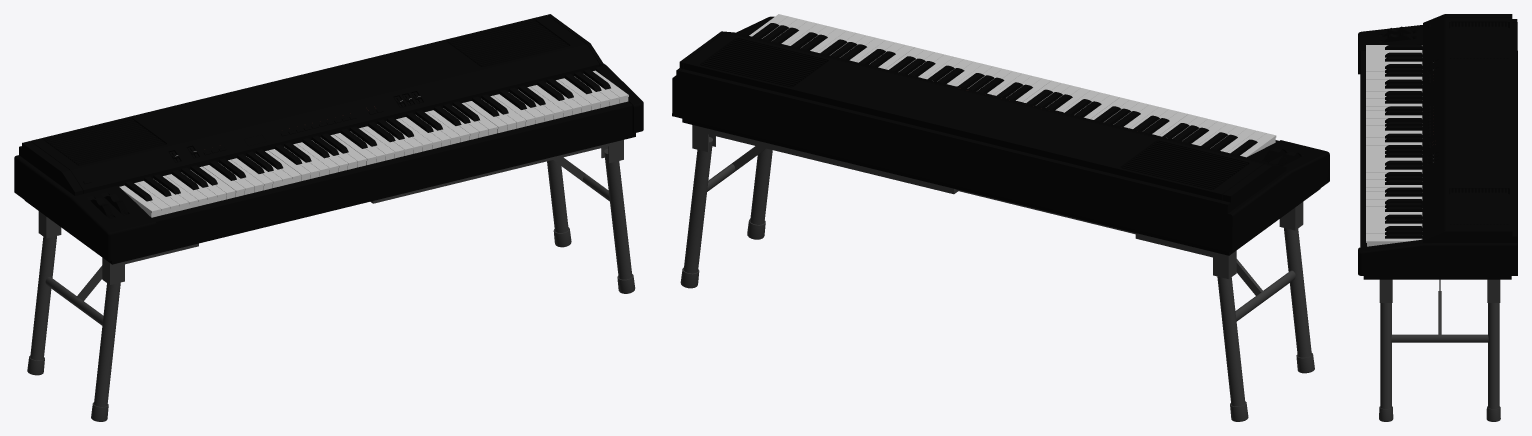
The picture shows the model from 3 angles, left to right: view 1: azimuth 30°, elevation 25°; view 2: azimuth 150°, elevation 25°; view 3: azimuth 270°, elevation 25°; orthographic projection. The views are drawn at different scales.
Visible parts, largest first — view 1: 4, 1, 3, 10, 6, 2, 9, 11, 7; view 2: 4, 1, 10, 3, 2, 9, 11, 6; view 3: 4, 3, 1, 2, 10, 6, 11, 9, 7.
Part boxes in pixels (box(x1,y1,x2,y2)): 4: box(14, 14, 643, 264); 1: box(119, 70, 628, 217); 3: box(83, 69, 610, 201); 10: box(27, 148, 635, 421); 6: box(71, 56, 594, 228); 2: box(43, 19, 570, 165); 9: box(38, 140, 623, 284); 11: box(45, 157, 609, 325); 7: box(90, 95, 420, 218); 4: box(672, 16, 1329, 255); 1: box(749, 14, 1276, 157); 10: box(680, 137, 1314, 421); 3: box(752, 23, 1269, 163); 2: box(700, 38, 1249, 189); 9: box(692, 125, 1303, 279); 11: box(707, 146, 1295, 321); 6: box(737, 34, 1309, 164); 4: box(1358, 14, 1517, 279); 3: box(1385, 24, 1430, 238); 1: box(1366, 45, 1433, 246); 2: box(1449, 21, 1509, 224); 10: box(1379, 303, 1500, 421); 6: box(1359, 18, 1443, 237); 11: box(1391, 279, 1488, 342); 9: box(1379, 279, 1500, 302); 7: box(1382, 26, 1435, 163).
Bounding box in the file's own units: 5.78 × 2.27 × 1.75.
13 materials, 1 textured.
